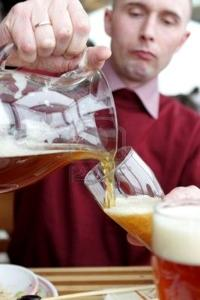person: (1, 1, 200, 264)
